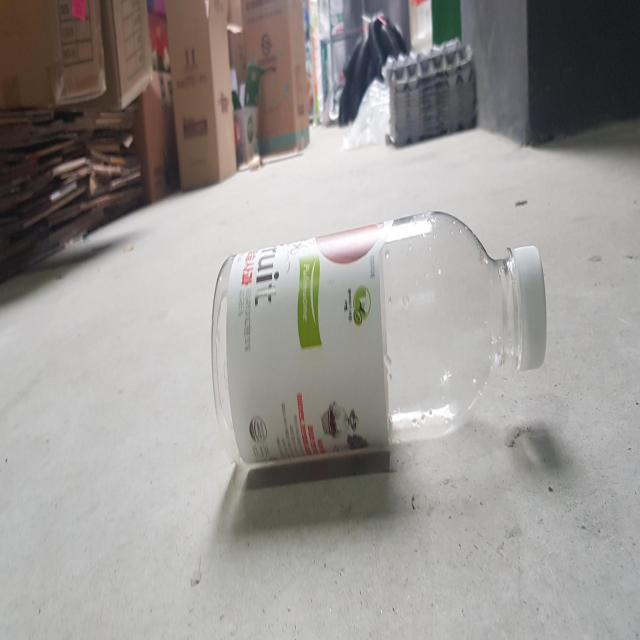plastic: (211, 210, 547, 465)
